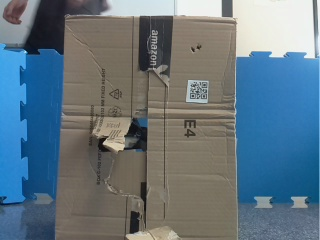caja_rota: (57, 17, 237, 240)
